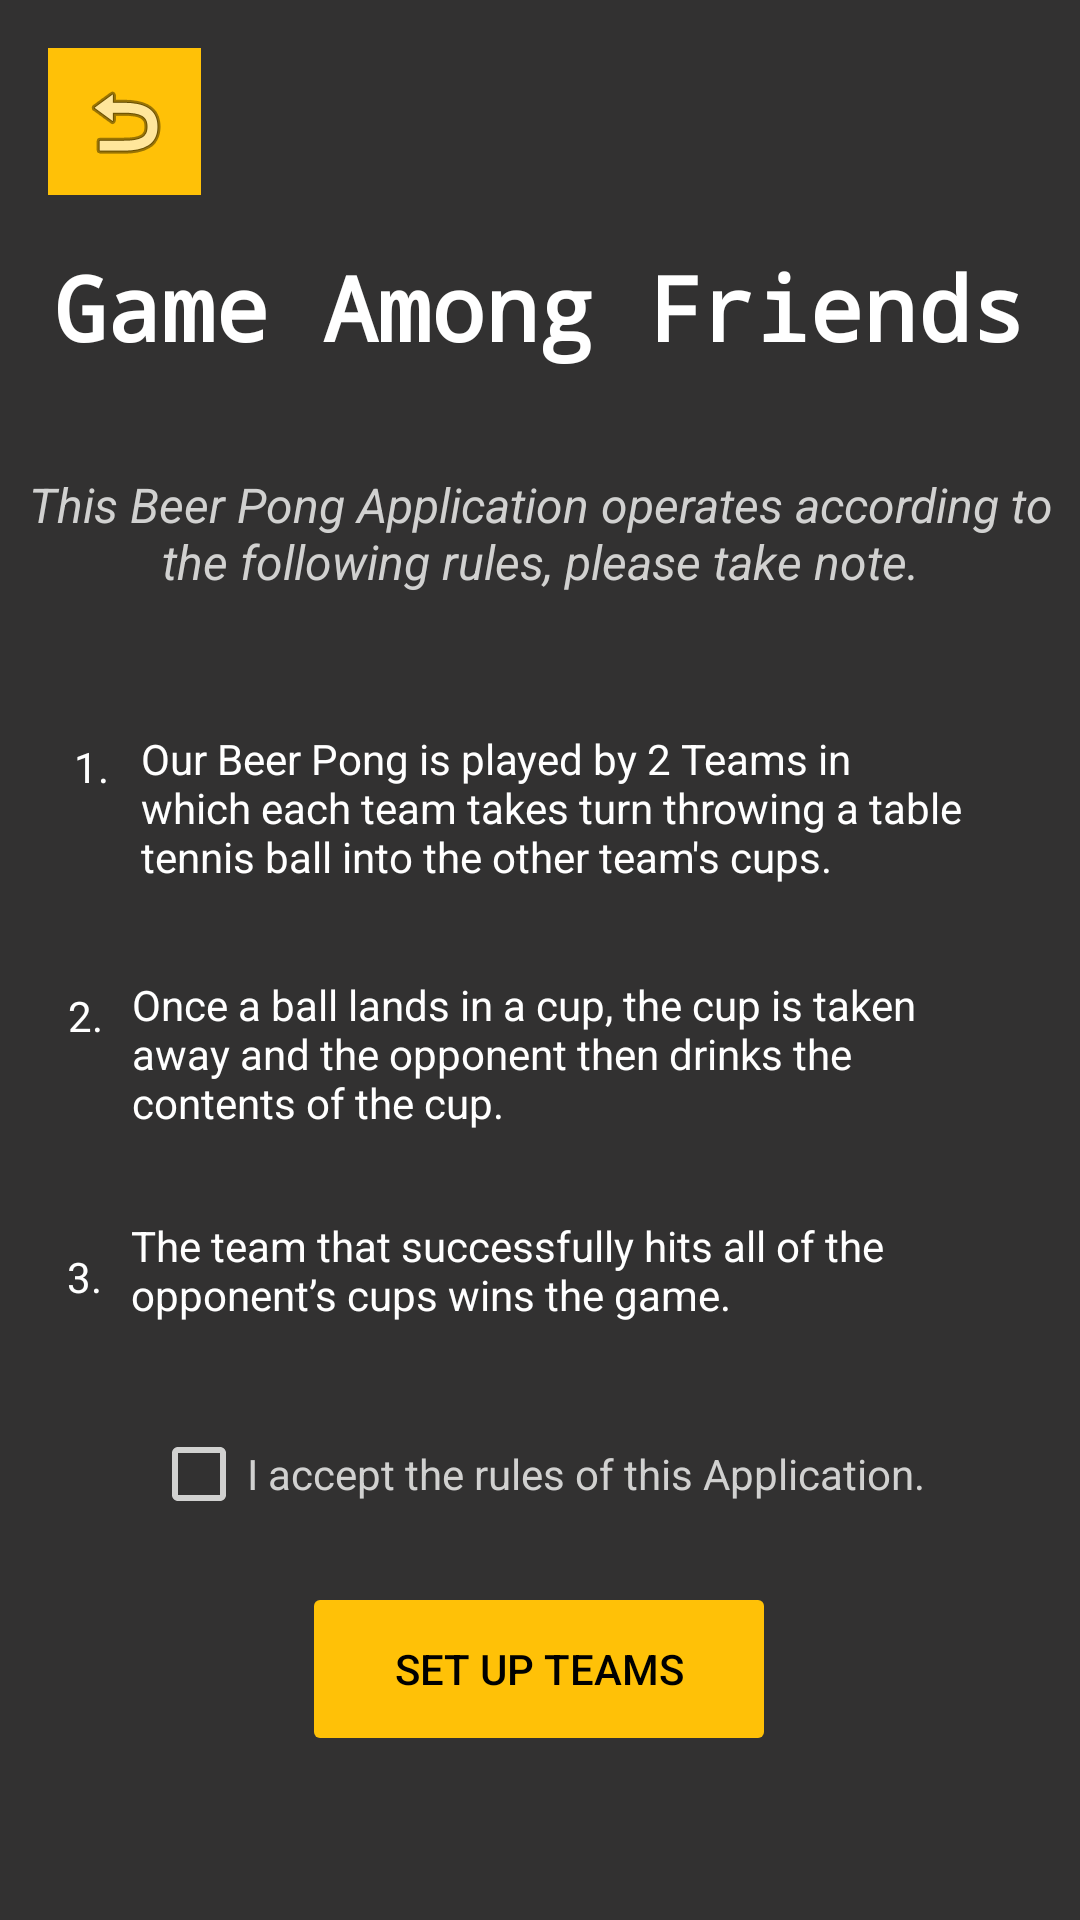

Icons on this 1080*1920 Android screen, each with its box as (x1,y1,x2,y2):
revert: (48,48,201,195)
